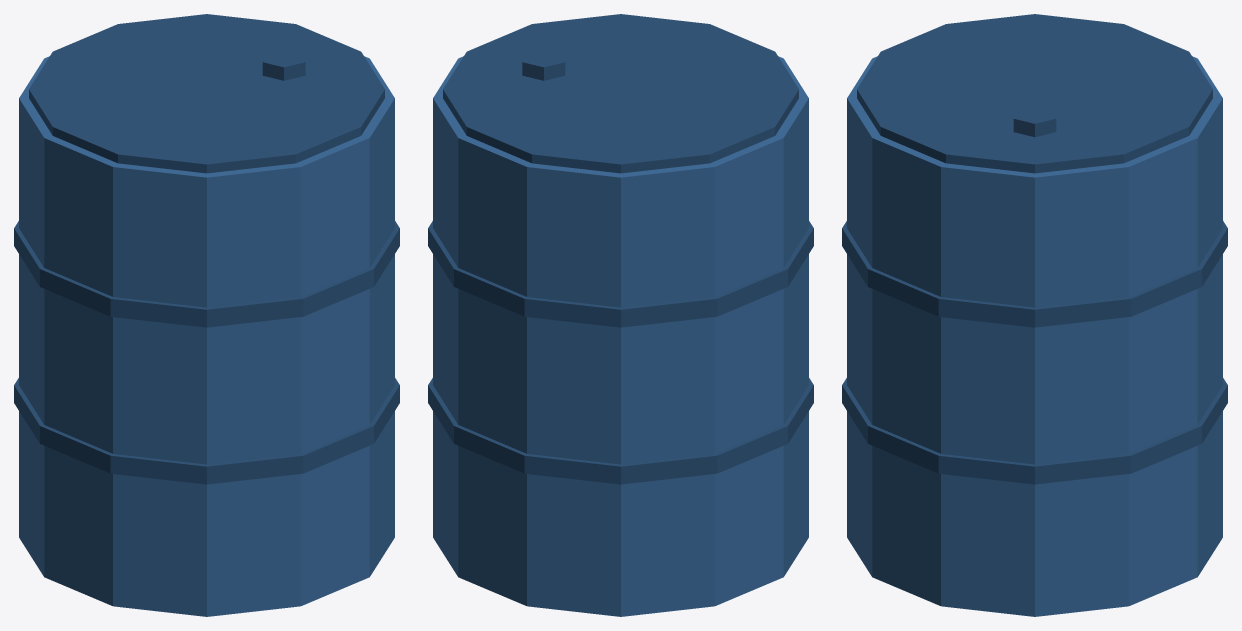
File: SM_Borgo_Barrel_Water.glb
3 renders of one model, left to right at view 1: azimuth 30°, elevation 25°; view 2: azimuth 150°, elevation 25°; view 3: azimuth 270°, elevation 25°, orthographic.
Visible parts, largest first — view 1: SM_Borgo_Barrel_Water; view 2: SM_Borgo_Barrel_Water; view 3: SM_Borgo_Barrel_Water.
Boxes of the visible parts, x1,y1,x2,y2 form: SM_Borgo_Barrel_Water: [14, 14, 399, 616]; SM_Borgo_Barrel_Water: [428, 14, 813, 616]; SM_Borgo_Barrel_Water: [842, 14, 1227, 616].
Size of the model in its own units: 0.78 by 1.03 by 0.78.
1 material, 1 textured.
